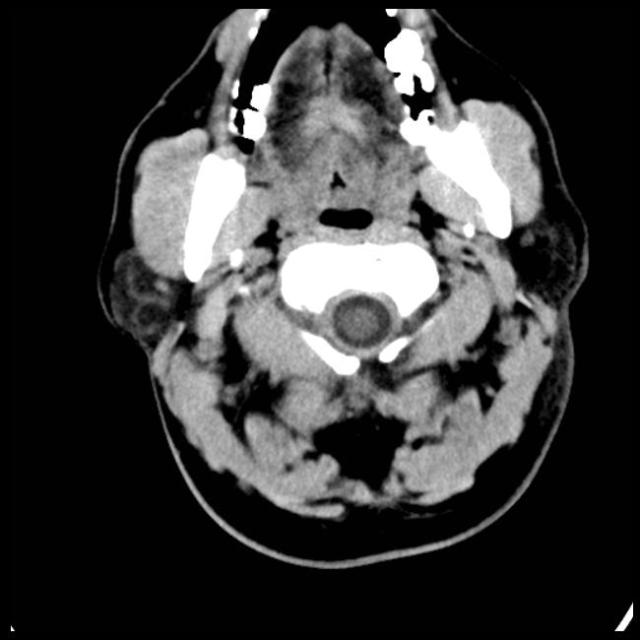lesion: (97, 6, 592, 552)
